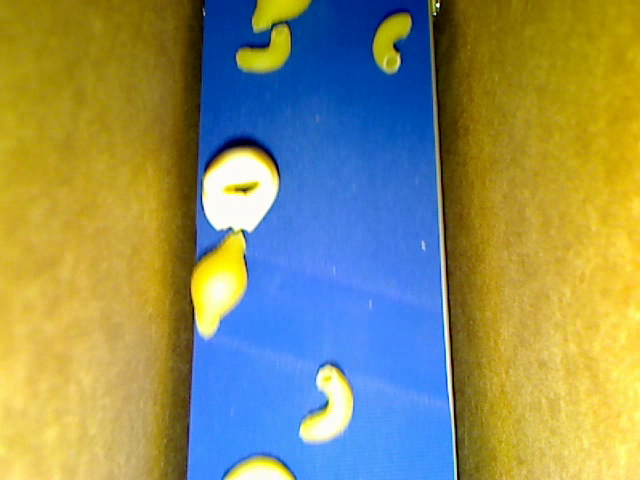elbow: (298, 363, 353, 444), (234, 24, 290, 72), (373, 14, 410, 74)
shell: (190, 230, 248, 339), (251, 1, 312, 34)
tortellini: (200, 143, 278, 232)
